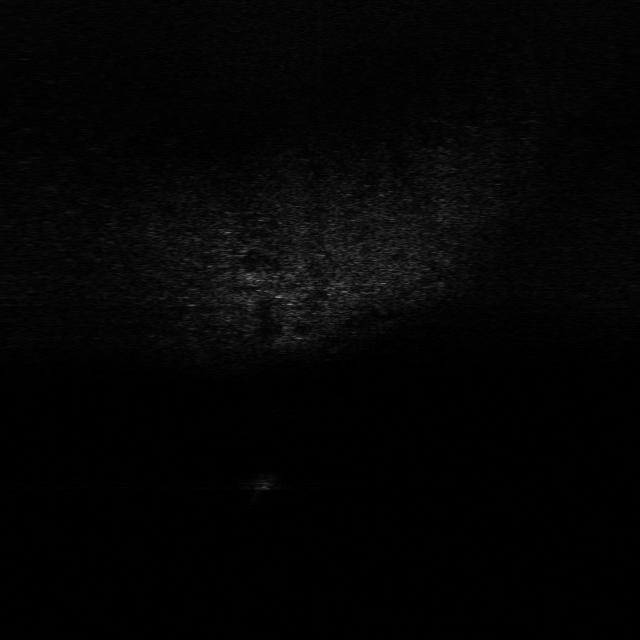cylinder: (248, 473, 280, 493)
